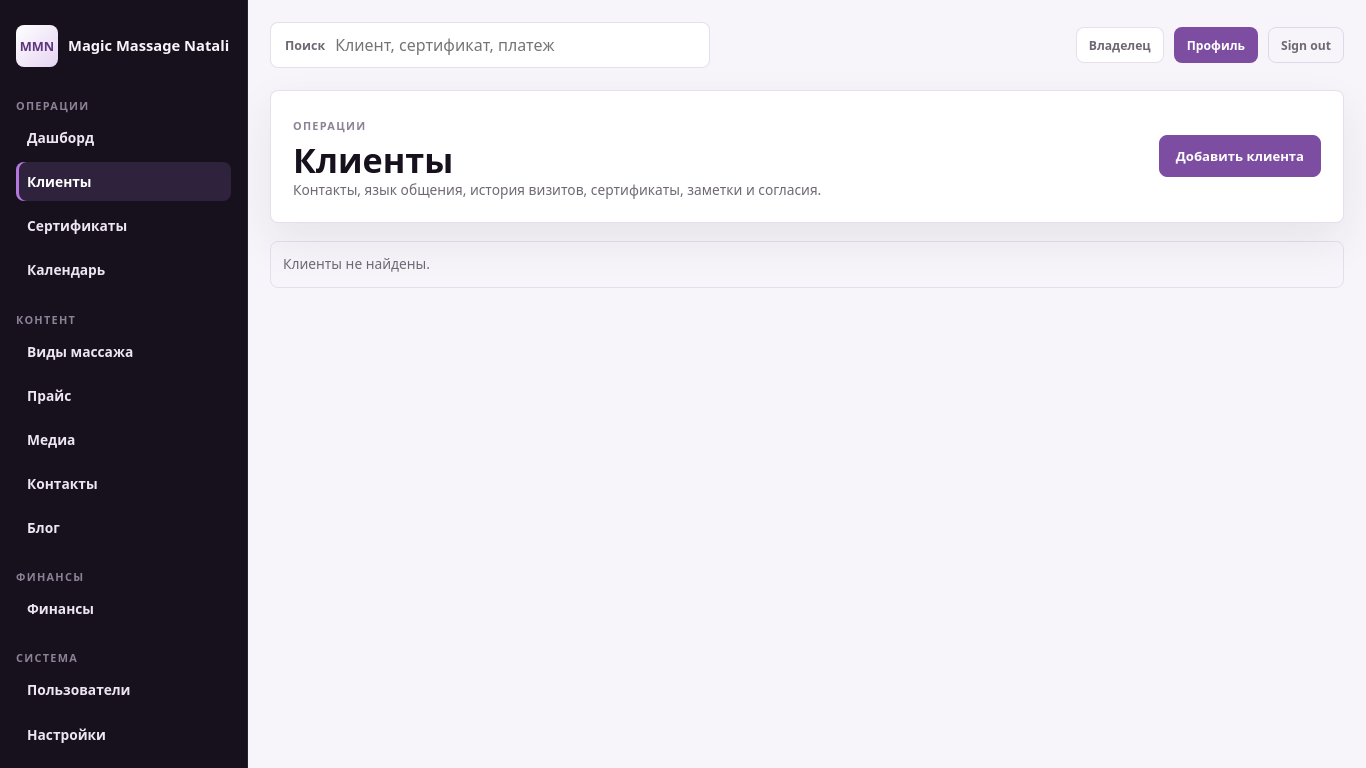
Test: AdminShell › can open the create-client form when Supabase has no clients yet
The width and height of the screenshot is (1366, 768).
Expected: the text "Клиенты не найдены." is shown, [270,241,1344,288]
Click the button "Добавить клиента" at x=1240, y=156, box [1159,135,1321,177]
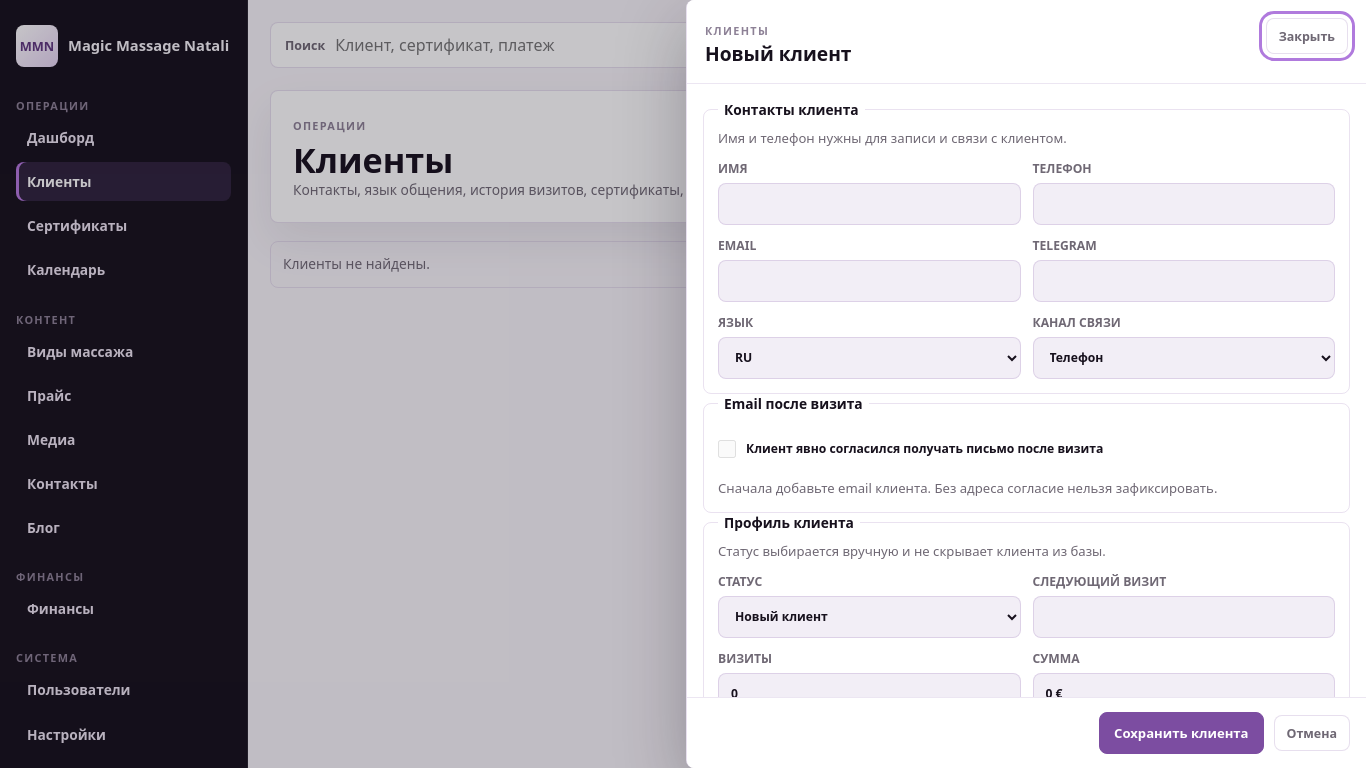
Result: the dialog "Новый клиент" is shown at [686,0,1365,767]
